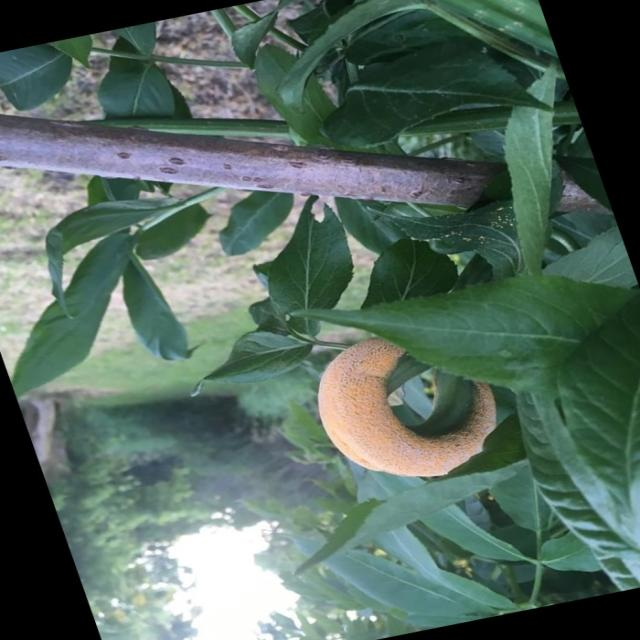Elderberry_rust: (272, 322, 529, 487)
